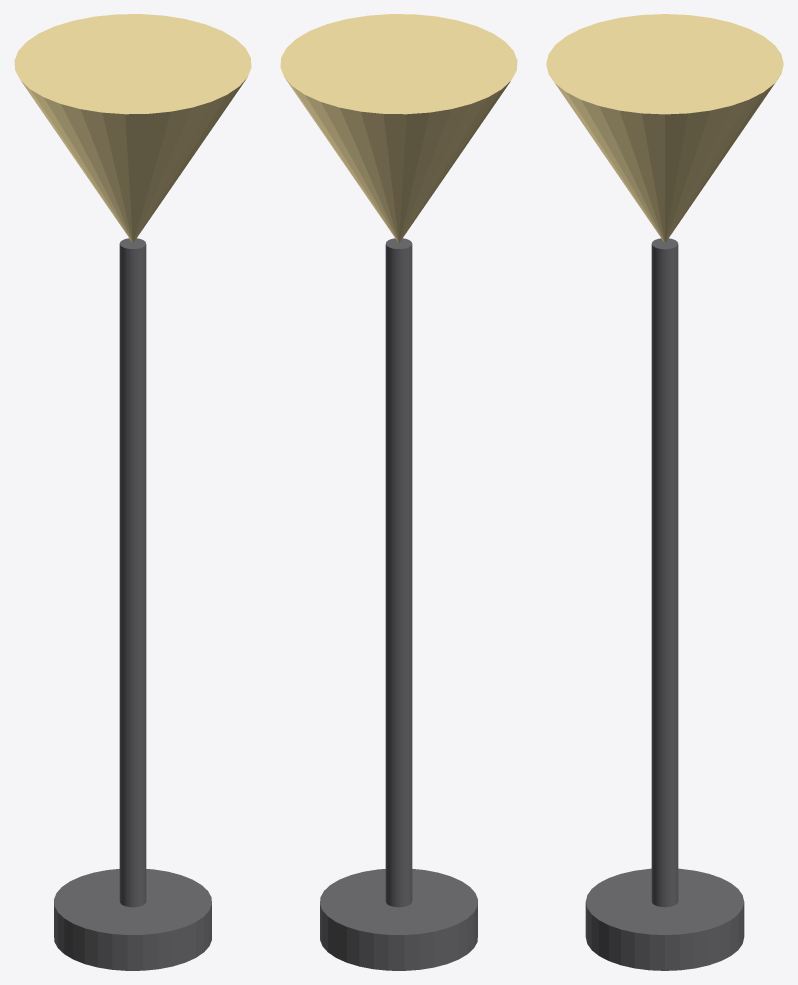
File: lamp.glb
The picture shows the model from 3 angles, left to right: view 1: azimuth 30°, elevation 25°; view 2: azimuth 150°, elevation 25°; view 3: azimuth 270°, elevation 25°; orthographic projection.
Visible parts, largest first — view 1: shade, neck, base; view 2: shade, neck, base; view 3: shade, neck, base.
Part boxes in pixels (x1,y1,x2,y2): shade: (14,14,251,242); neck: (119,238,146,907); base: (54,869,211,970); shade: (280,14,517,242); neck: (385,238,412,907); base: (320,869,477,970); shade: (546,14,783,242); neck: (651,238,678,907); base: (585,868,744,970).
Bounding box in the file's own units: 0.36 × 1.46 × 0.36.
